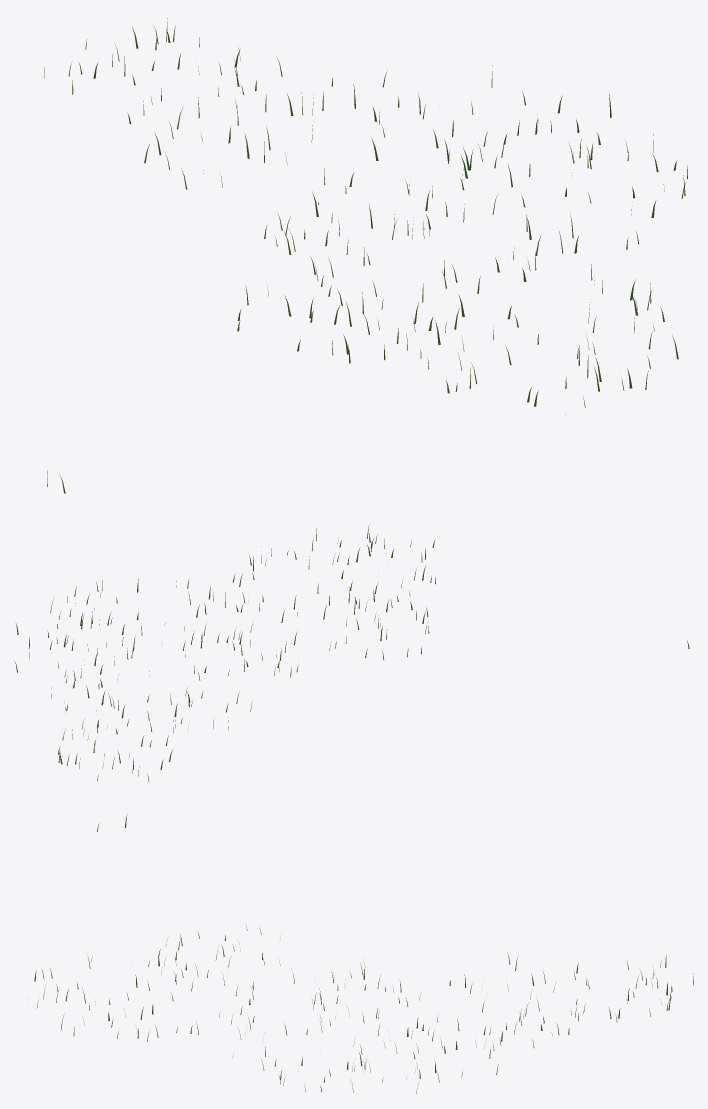
3 renders of one model, top to bottom at view 1: azimuth 30°, elevation 25°; view 2: azimuth 150°, elevation 25°; view 3: azimuth 270°, elevation 25°, orthographic. The views are drawn at different scales.
Parts seen in each view (by area): view 1: GrassPatch; view 2: GrassPatch; view 3: GrassPatch.
Part boxes in pixels (x1,y1,x2,y2): GrassPatch: (44,18,687,493); GrassPatch: (14,525,689,781); GrassPatch: (34,815,693,1094).
Bounding box in the file's own units: 16.27 × 0.491 × 17.51.
